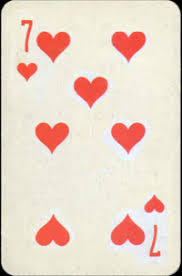seven of hearts: (2, 1, 180, 276)
